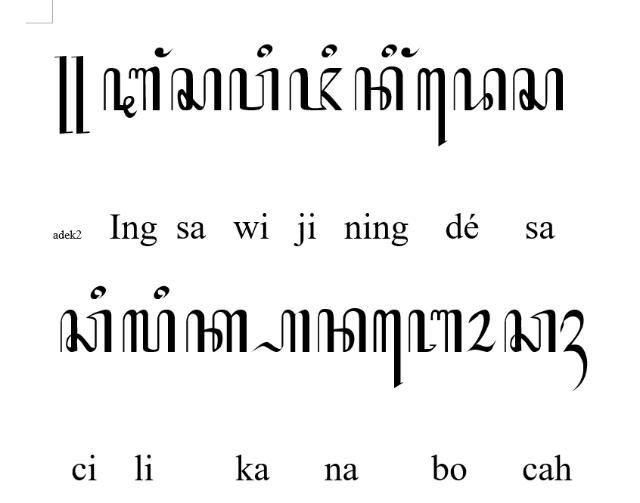I: (103, 65, 161, 119)
_h: (254, 310, 312, 354)
_h1: (560, 310, 588, 392)
adeg2: (54, 55, 90, 135)
b: (406, 308, 464, 354)
c: (58, 308, 112, 353), (504, 309, 556, 355)
d: (452, 66, 508, 113)
e1: (418, 66, 448, 148), (372, 310, 403, 388)
i: (320, 43, 338, 59), (89, 286, 108, 300), (256, 43, 272, 59), (380, 44, 398, 58), (153, 286, 170, 300)
j: (287, 67, 343, 112)
k: (185, 309, 249, 355)
l: (122, 310, 176, 354)
n: (317, 308, 367, 354), (354, 67, 404, 112)
ng: (400, 46, 420, 60), (154, 48, 173, 58)
o: (466, 310, 496, 352)
s: (170, 68, 222, 113), (512, 67, 564, 112)
w: (228, 67, 280, 112)
